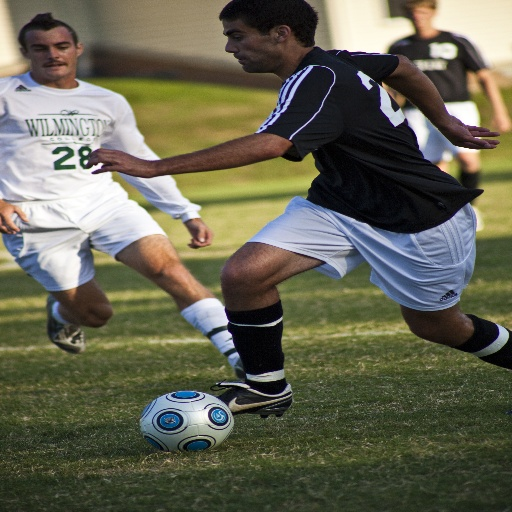hand: (83, 142, 152, 176), (437, 117, 499, 150), (0, 199, 30, 234), (182, 220, 213, 248), (491, 116, 511, 133)
